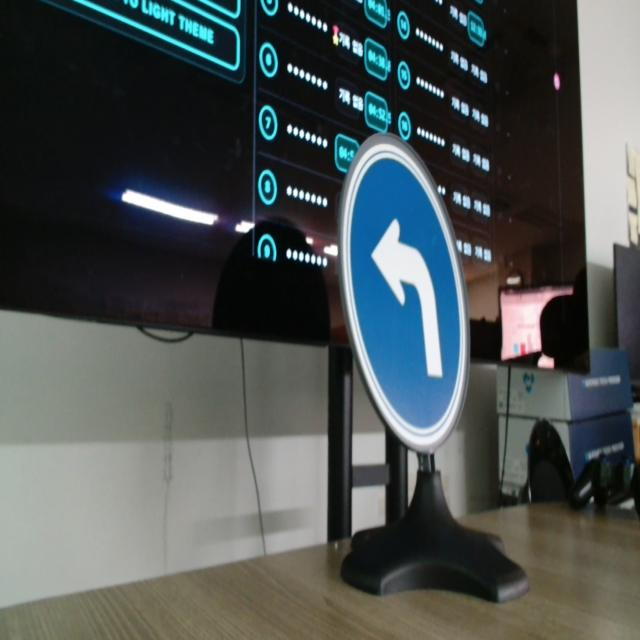left_direction: (320, 118, 483, 463)
